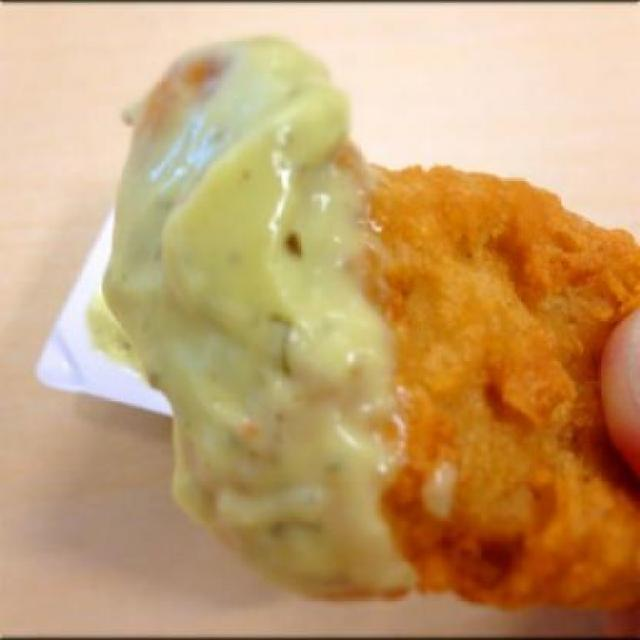Chicken nugget: (66, 24, 640, 622)
